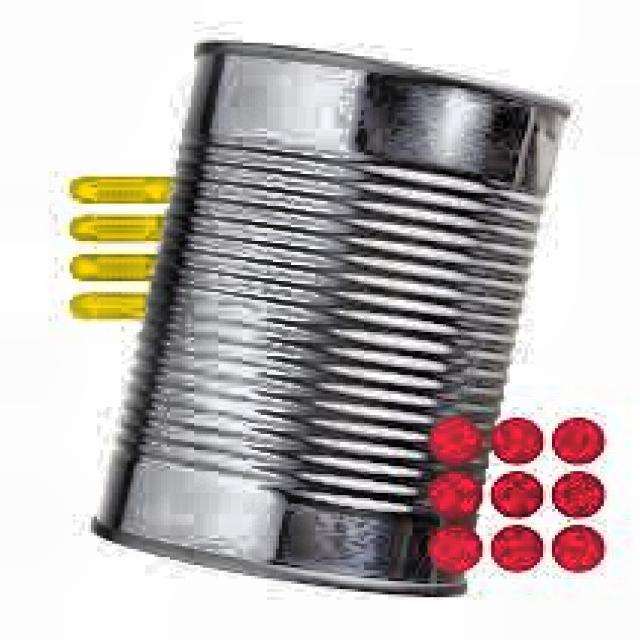can: (83, 36, 575, 607)
